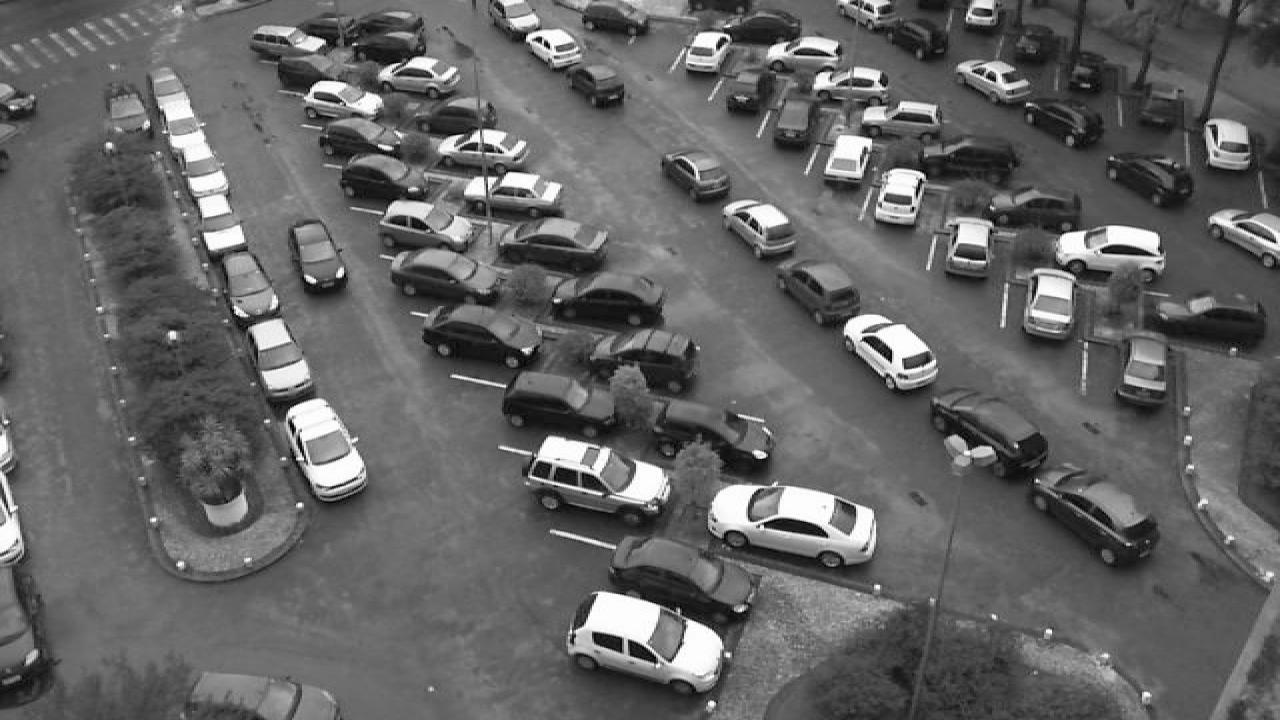Car: (562, 588, 728, 698), (706, 481, 882, 570), (1032, 460, 1164, 570), (600, 534, 760, 624), (522, 433, 674, 525), (926, 386, 1052, 476), (646, 395, 780, 475), (498, 366, 628, 438), (282, 398, 372, 502), (416, 302, 548, 372), (582, 324, 706, 394), (180, 670, 342, 720), (550, 269, 670, 332), (384, 244, 498, 305), (1156, 290, 1274, 346), (496, 214, 610, 271), (1054, 222, 1170, 274), (372, 198, 476, 255), (0, 560, 46, 688), (244, 317, 312, 396), (1104, 150, 1198, 207), (984, 181, 1086, 231), (334, 152, 426, 204), (460, 170, 564, 215), (1110, 329, 1170, 405), (1018, 97, 1106, 148), (1018, 267, 1078, 341), (922, 132, 1022, 176), (310, 116, 404, 162), (434, 126, 532, 169), (218, 250, 276, 320), (938, 215, 1000, 279), (410, 92, 500, 136), (298, 78, 386, 122), (376, 54, 462, 98), (954, 58, 1034, 104), (876, 17, 954, 63), (760, 35, 848, 74), (716, 6, 804, 45), (198, 196, 256, 254), (1198, 116, 1258, 172), (860, 99, 944, 137), (818, 134, 878, 186), (272, 49, 340, 93), (348, 30, 426, 68), (810, 66, 892, 102), (870, 168, 920, 227), (246, 23, 330, 58), (180, 152, 234, 202), (768, 94, 818, 148), (578, 0, 650, 36), (352, 8, 426, 42), (676, 30, 730, 76), (164, 110, 212, 159), (1136, 81, 1188, 126), (724, 64, 770, 114), (834, 0, 910, 29), (1064, 48, 1112, 93), (1010, 23, 1062, 64), (150, 65, 192, 115), (962, 0, 1004, 28)
